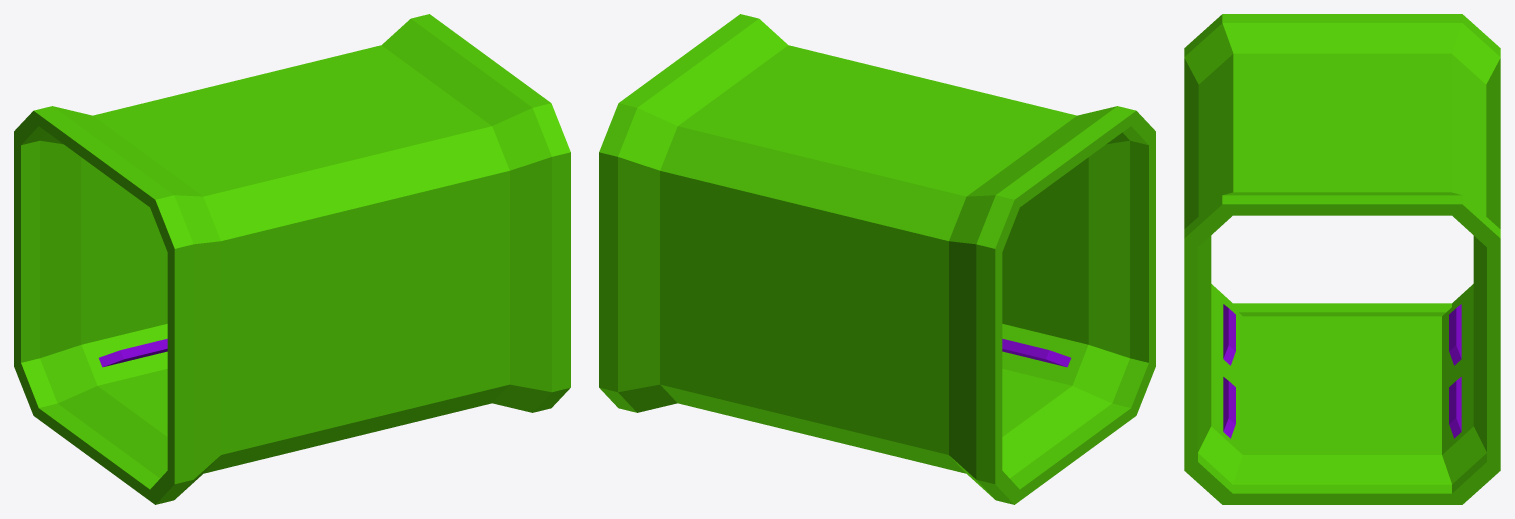
Rendered from HallSegment.fbx.
The picture shows the model from 3 angles, left to right: view 1: azimuth 30°, elevation 25°; view 2: azimuth 150°, elevation 25°; view 3: azimuth 270°, elevation 25°; orthographic projection.
Parts seen in each view (by area): view 1: Cube; view 2: Cube; view 3: Cube.
Boxes of the visible parts, x1,y1,x2,y2 form: Cube: (14,14,570,504); Cube: (599,14,1155,504); Cube: (1184,14,1500,504).
Size of the model in its own units: 419 by 309 by 295.
